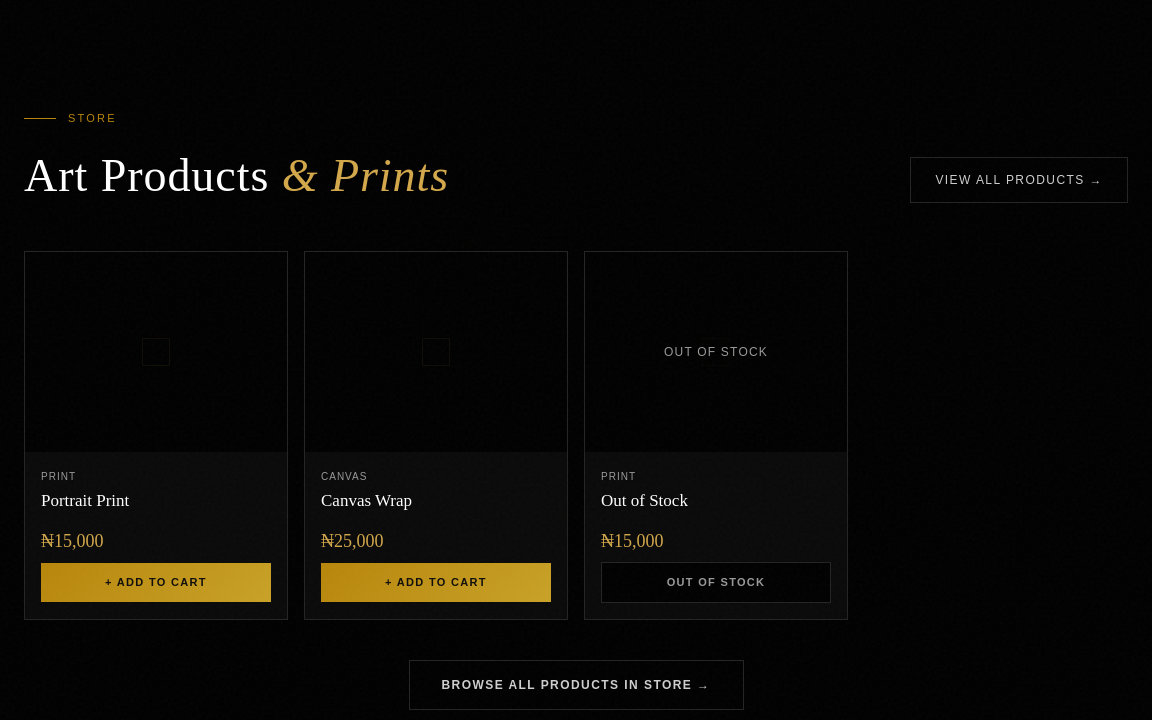
Test: HomeProductSection › closes modal when close button is clicked
The image size is (1152, 720).
Click the element with test id "product-card-1": (156, 435) left=24, top=251, right=288, bottom=620
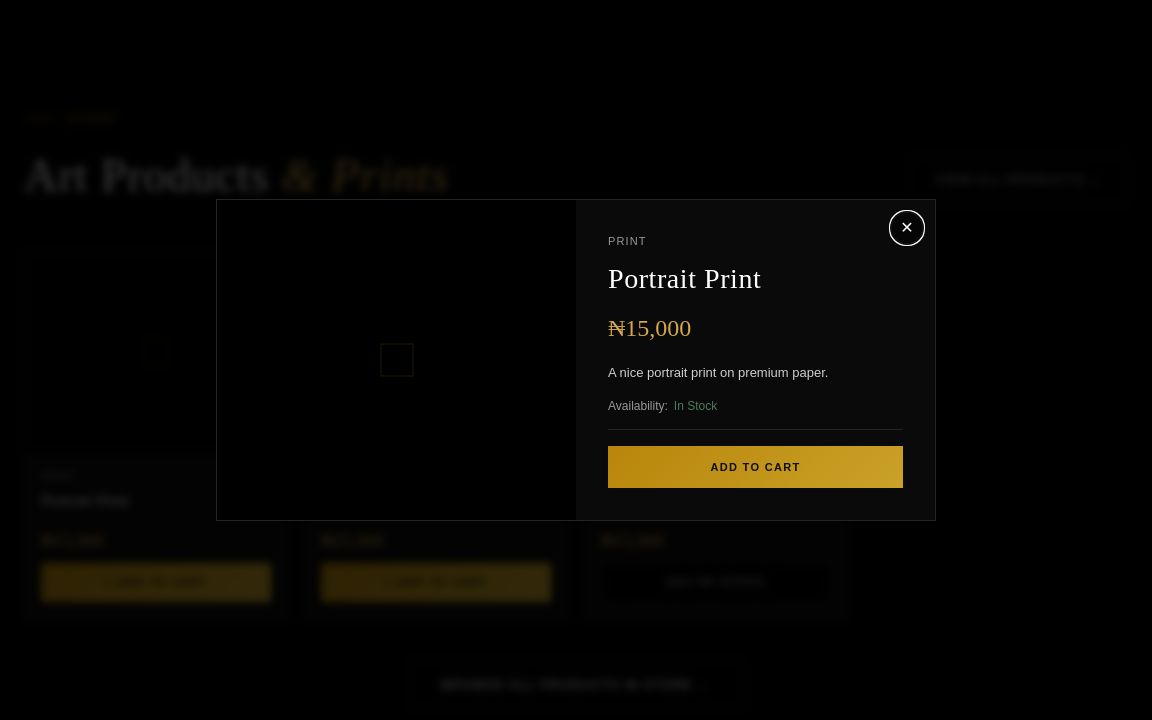
Expected: the dialog with test id "product-quick-view-modal" is shown
Click the button with test id "modal-close-btn": (907, 228) left=891, top=212, right=923, bottom=244
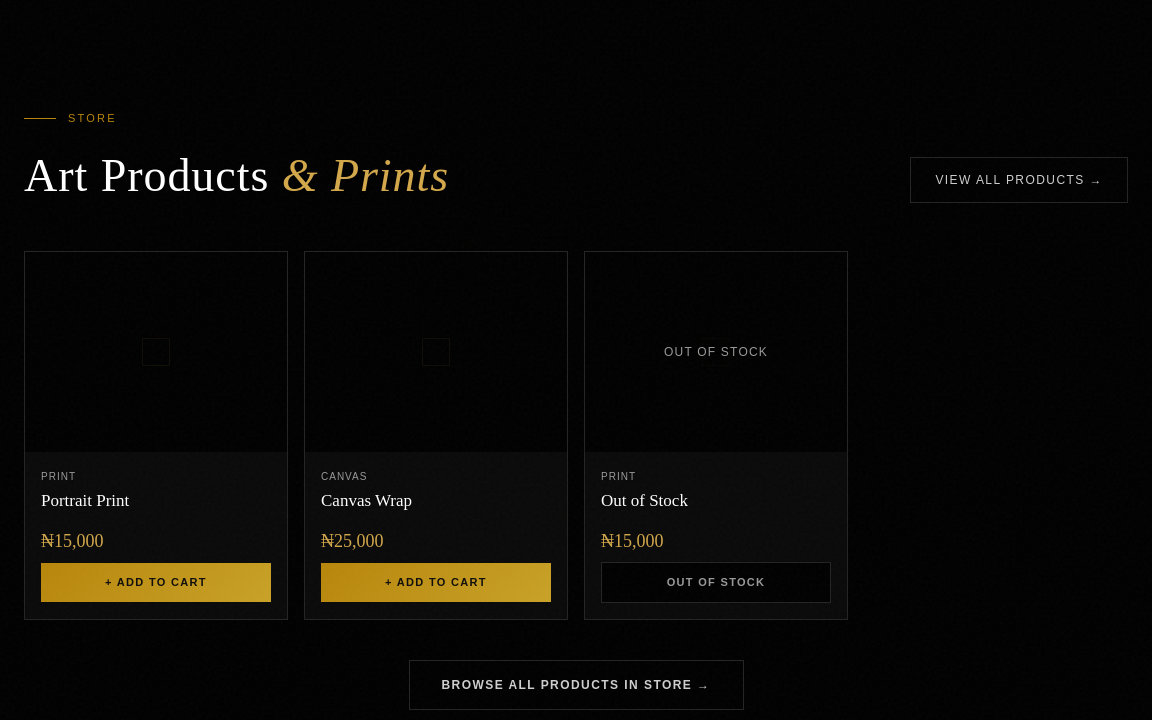
Expected: the dialog with test id "product-quick-view-modal" is gone
